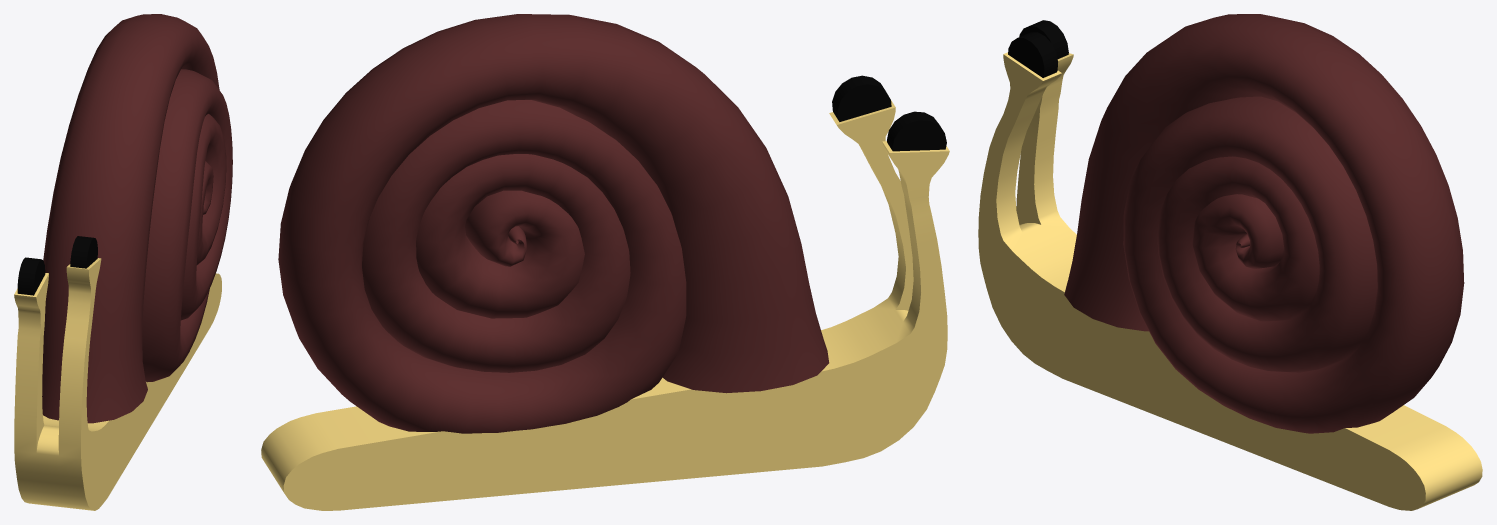
The model's file is snail.fbx.
3 renders of one model, left to right at view 1: azimuth 30°, elevation 25°; view 2: azimuth 150°, elevation 25°; view 3: azimuth 270°, elevation 25°, orthographic. The views are drawn at different scales.
Visible parts, largest first — view 1: Circle.1990; view 2: Circle.1990; view 3: Circle.1990.
Boxes of the visible parts, box(x1,y1,x2,y2) form: Circle.1990: box(14, 14, 232, 510); Circle.1990: box(261, 14, 949, 510); Circle.1990: box(978, 14, 1482, 510).
Size of the model in its own units: 202 by 186 by 201.
1 material, 1 textured.
